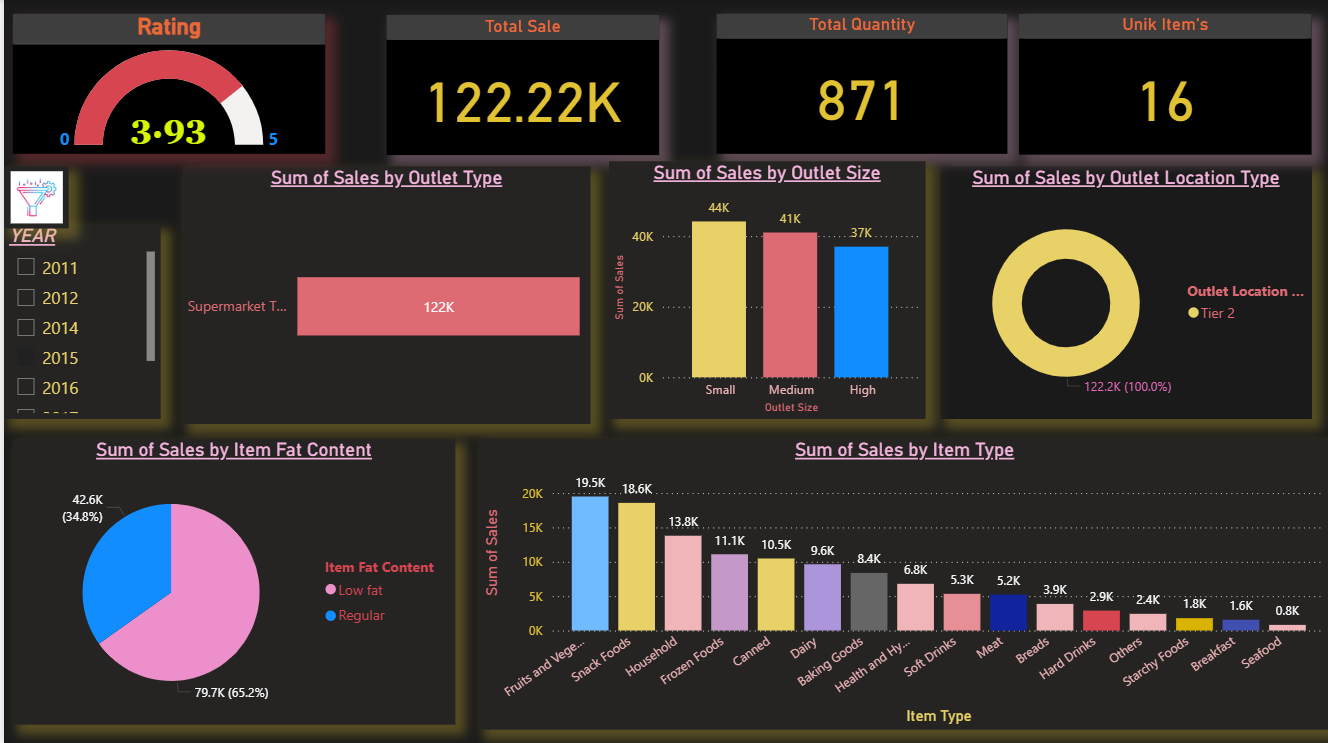

What the dashboard file says about the page in this screenshot:
{"tool":"powerbi","page":{"name":"Page 1","canvas":[1280,720],"ordinal":0},"visuals":[{"type":"card","title":"Total Sale","fields":{"Values":["Sum(BlinkIT Grocery Data.Sales)"]},"box":[369.2,14.5,263,135.1],"z":0},{"type":"card","title":"Total Quantity","fields":{"Values":["CountNonNull(BlinkIT Grocery Data.Item Visibility)"]},"box":[687.7,13.3,281.1,135.1],"z":1000},{"type":"donutChart","fields":{"Category":["BlinkIT Grocery Data.Outlet Location Type"],"Y":["Sum(BlinkIT Grocery Data.Sales)"]},"box":[903.6,160.5,358.3,243.7],"z":2000},{"type":"funnel","fields":{"Category":["BlinkIT Grocery Data.Outlet Type"],"Y":["Sum(BlinkIT Grocery Data.Sales)"]},"box":[172.5,160.5,393.3,248.5],"z":3000},{"type":"columnChart","fields":{"Category":["BlinkIT Grocery Data.Item Type"],"Y":["Sum(BlinkIT Grocery Data.Sales)"]},"box":[458.4,423.5,821.6,281.1],"z":4000},{"type":"columnChart","fields":{"Category":["BlinkIT Grocery Data.Outlet Size"],"Y":["Sum(BlinkIT Grocery Data.Sales)"]},"box":[583.9,155.6,305.2,248.5],"z":5000},{"type":"pieChart","fields":{"Category":["BlinkIT Grocery Data.Item Fat Content"],"Y":["Sum(BlinkIT Grocery Data.Sales)"]},"box":[8.4,423.5,427.1,276.3],"z":6000},{"type":"gauge","title":"Rating","fields":{"Y":["Avg(BlinkIT Grocery Data.Rating)"]},"box":[8.4,13.3,301.6,135.1],"z":7000},{"type":"card","title":"Unik Item''s","fields":{"Values":["Count(BlinkIT Grocery Data.Item Type)"]},"box":[979.6,13.3,282.3,136.3],"z":8000},{"type":"slicer","title":"YEAR","fields":{"Values":["BlinkIT Grocery Data.Outlet Establishment Year"]},"box":[0,217.2,150.8,187],"z":9000},{"type":"image","box":[0,160.5,62.7,60.3],"z":10000}]}

Visuals, with their boxes in screenshot pixels (x1, y1, x2, y2), scaled from the page's 1280x720 canvas onto the 1328x743 screenshot:
"Total Sale" card: pyautogui.locateOnScreen(383, 15, 656, 154)
"Total Quantity" card: pyautogui.locateOnScreen(713, 14, 1005, 153)
donutChart - BlinkIT Grocery Data.Outlet Location Type x Sum(BlinkIT Grocery Data.Sales): pyautogui.locateOnScreen(937, 166, 1309, 417)
funnel - BlinkIT Grocery Data.Outlet Type x Sum(BlinkIT Grocery Data.Sales): pyautogui.locateOnScreen(179, 166, 587, 422)
columnChart - BlinkIT Grocery Data.Item Type x Sum(BlinkIT Grocery Data.Sales): pyautogui.locateOnScreen(476, 437, 1327, 727)
columnChart - BlinkIT Grocery Data.Outlet Size x Sum(BlinkIT Grocery Data.Sales): pyautogui.locateOnScreen(606, 161, 922, 417)
pieChart - BlinkIT Grocery Data.Item Fat Content x Sum(BlinkIT Grocery Data.Sales): pyautogui.locateOnScreen(9, 437, 452, 722)
"Rating" gauge: pyautogui.locateOnScreen(9, 14, 322, 153)
"Unik Item''s" card: pyautogui.locateOnScreen(1016, 14, 1309, 154)
"YEAR" slicer: pyautogui.locateOnScreen(0, 224, 156, 417)
image: pyautogui.locateOnScreen(0, 166, 65, 228)
